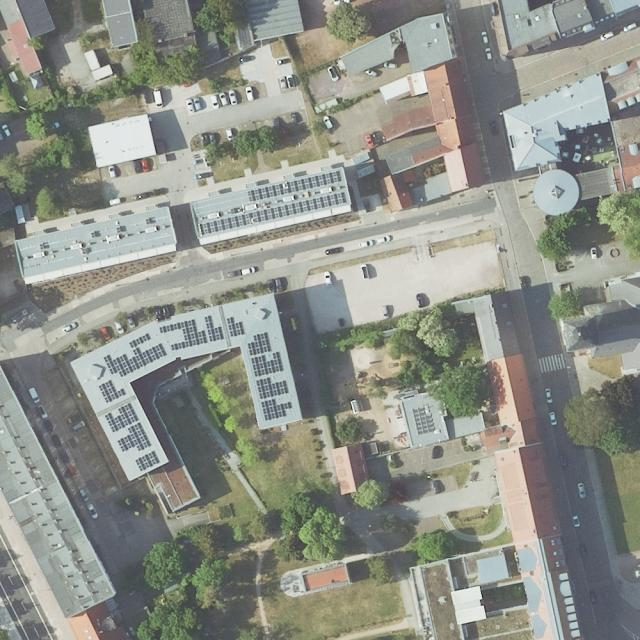PV: (200, 192, 345, 235), (103, 332, 165, 379), (246, 170, 339, 200), (159, 318, 205, 351), (103, 404, 137, 433), (117, 424, 149, 454), (251, 352, 282, 377), (98, 379, 124, 405), (257, 377, 286, 398), (246, 333, 271, 356), (261, 400, 289, 420), (203, 316, 223, 341), (135, 451, 158, 470), (226, 316, 244, 337)
